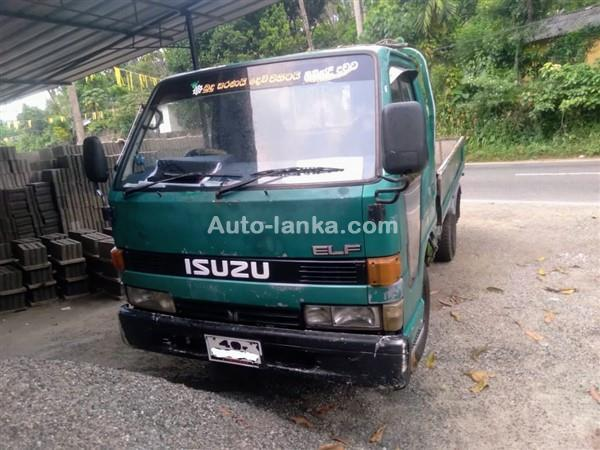truck: (82, 43, 467, 390)
